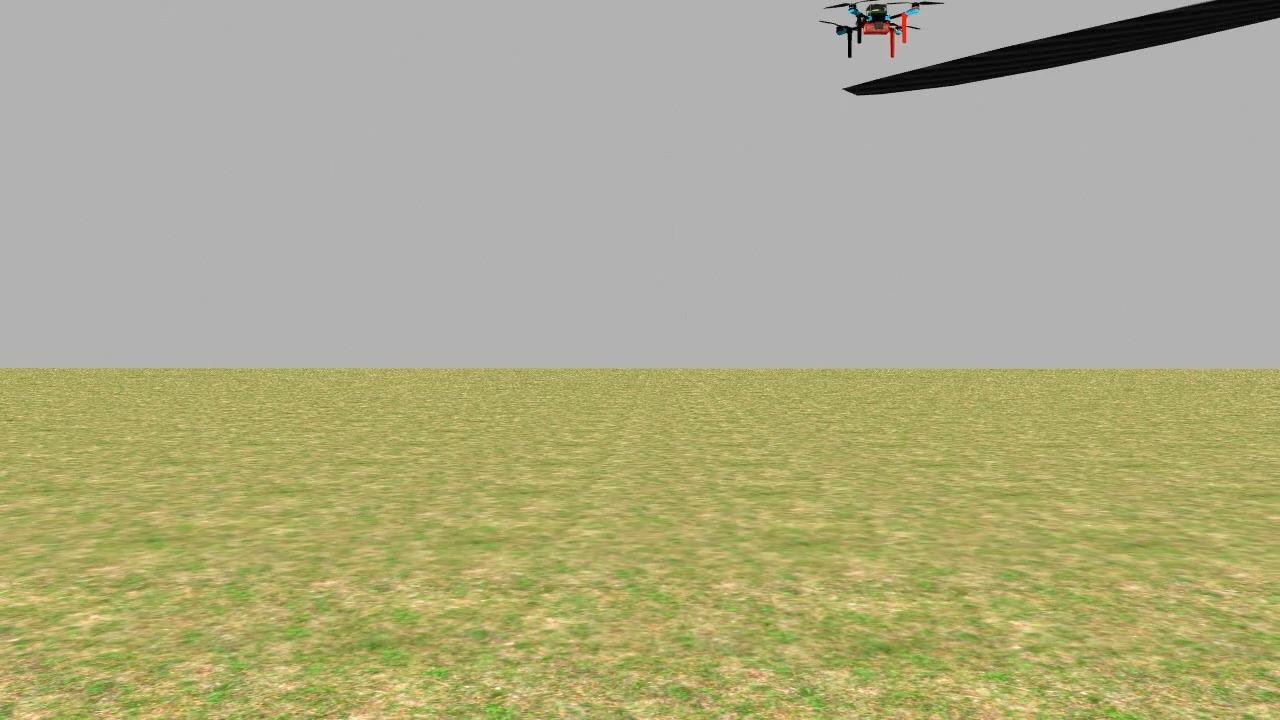UAV: (825, 0, 931, 69)
